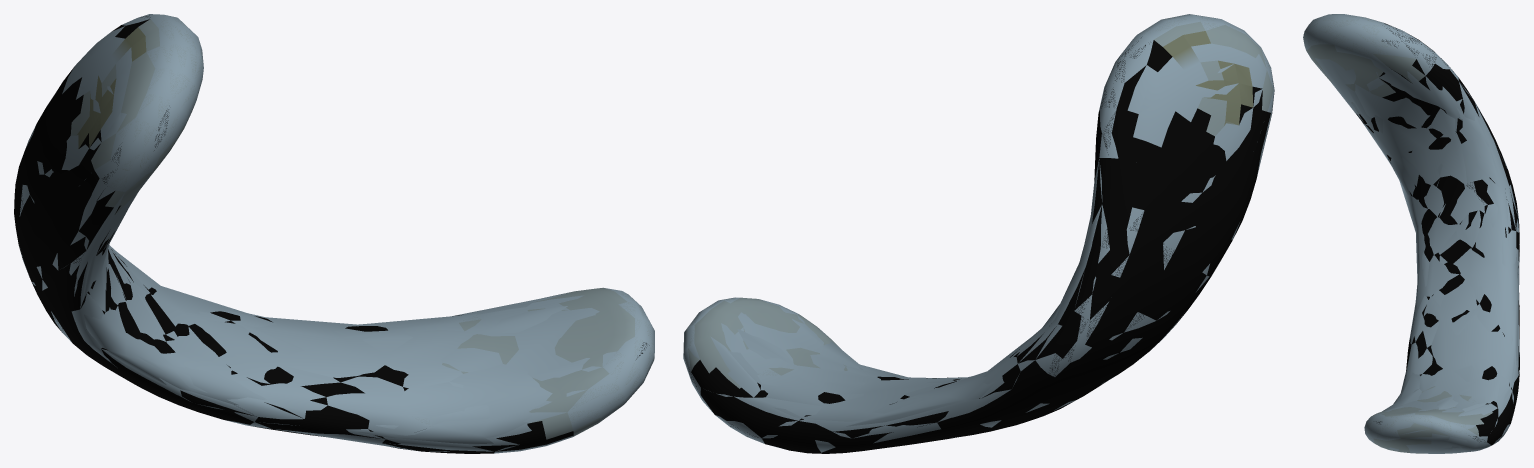
3 renders of one model, left to right at view 1: azimuth 30°, elevation 25°; view 2: azimuth 150°, elevation 25°; view 3: azimuth 270°, elevation 25°, orthographic. The views are drawn at different scales.
Parts seen in each view (by area): view 1: CC R01 high, CC R01, CC R01 low; view 2: CC R01 high, CC R01, CC R01 low; view 3: CC R01 low, CC R01, CC R01 high.
Part boxes in pixels (box(x1,y1,x2,y2)): CC R01 high: box(14, 15, 654, 453); CC R01: box(19, 14, 654, 451); CC R01 low: box(84, 220, 567, 444); CC R01 high: box(684, 15, 1273, 453); CC R01: box(683, 14, 1274, 452); CC R01 low: box(727, 217, 1091, 426); CC R01 low: box(1351, 84, 1517, 412); CC R01: box(1303, 14, 1519, 453); CC R01 high: box(1304, 14, 1519, 453).
Size of the model in its own units: 4.51 by 3.73 by 2.33.
